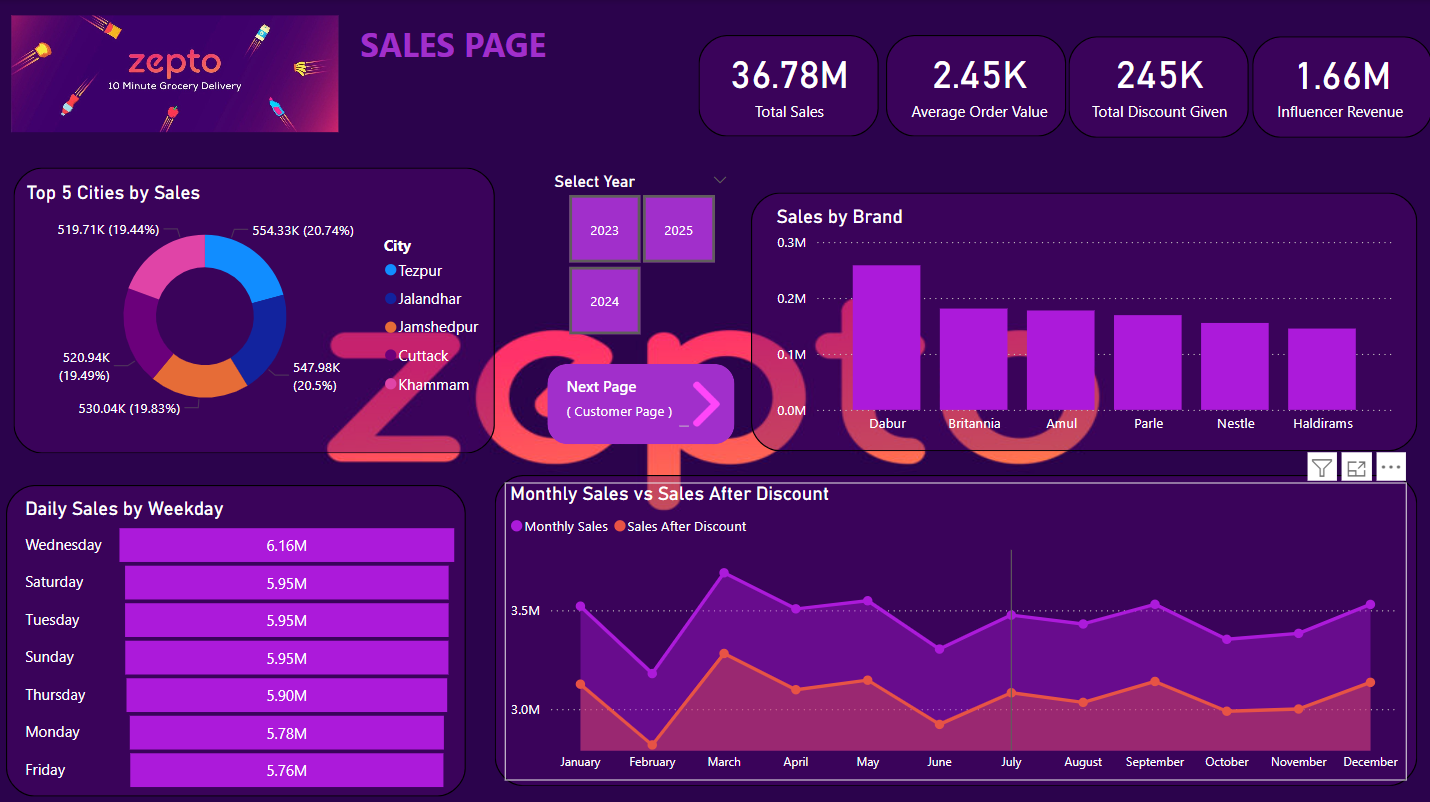

What the dashboard file says about the page in this screenshot:
{"tool":"powerbi","page":{"name":"Sales Page","canvas":[1280,720],"ordinal":1},"visuals":[{"type":"shape","box":[490.5,323.7,166.8,71.7],"z":0},{"type":"shape","box":[955.5,32.6,160.5,90.5],"z":1000},{"type":"shape","box":[1118.4,32.6,160.5,90.5],"z":2000},{"type":"shape","box":[792.6,31.4,160.5,90.5],"z":3000},{"type":"shape","box":[626.1,31.4,160.5,90.5],"z":4000},{"type":"shape","box":[672.4,171.4,593.3,230.4],"z":5000},{"type":"shape","box":[444.2,423,821.5,277.2],"z":6000},{"type":"shape","box":[8.6,431.7,409.5,277.5],"z":7000},{"type":"image","box":[9.3,9.3,301.2,114.1],"z":8000},{"type":"card","fields":{"Values":["New_Measures.Average_Order_Value"]},"box":[797.5,22.9,158,98.9],"z":9000},{"type":"card","fields":{"Values":["New_Measures.Total_Amount_After_Discount_"]},"box":[621.3,22.9,171.3,98.9],"z":10000},{"type":"card","fields":{"Values":["Sales.Total Discount"]},"box":[955.5,22.9,162.9,98.9],"z":11000},{"type":"card","fields":{"Values":["Sales.Influencer Revenue"]},"box":[1131.9,33.2,134,79.6],"z":12000},{"type":"areaChart","title":" Monthly Sales vs Sales After Discount","fields":{"Category":["Orders.Order_Date.Variation.Date Hierarchy.Month"],"Y":["New_Measures.Total_Amount","New_Measures.Total_Amount_After_Discount_"]},"box":[453.1,429.7,803.7,266],"z":13000},{"type":"funnel","title":"Daily Sales by Weekday","fields":{"Category":["Orders.Days"],"Y":["New_Measures.Total_Amount"]},"box":[21,442.8,397.1,266.4],"z":14000},{"type":"columnChart","title":"Sales by Brand","fields":{"Category":["Products.Brand"],"Y":["New_Measures.Total_Amount_After_Discount_"]},"box":[690.2,182.6,558.8,212.6],"z":15000},{"type":"shape","box":[15.9,148.6,428.6,254.8],"z":16000},{"type":"donutChart","title":" Top 5 Cities by Sales","fields":{"Y":["New_Measures.Total_Amount_After_Discount_"],"Category":["Customers.City"]},"box":[22.6,161.9,422,221.6],"z":17000},{"type":"slicer","fields":{"Values":["Customers.created_date.Variation.Date Hierarchy.Year"]},"box":[483.8,148.4,179.8,156.8],"z":18000},{"type":"textbox","title":"SALES PAGE","box":[319.8,18.6,199,47.8],"z":19000},{"type":"image","box":[607.9,334.8,49.4,49.4],"z":20000},{"type":"textbox","title":"Next Page ","box":[502.9,334.8,118.6,49.4],"z":21000}]}

Visuals, with their boxes in screenshot pixels (x1, y1, x2, y2), scaled from the page's 1280x720 canvas onto the 1430x802 screenshot:
shape: l=548, t=361, r=734, b=440
shape: l=1067, t=36, r=1247, b=137
shape: l=1249, t=36, r=1429, b=137
shape: l=885, t=35, r=1065, b=136
shape: l=699, t=35, r=879, b=136
shape: l=751, t=191, r=1414, b=448
shape: l=496, t=471, r=1414, b=780
shape: l=10, t=481, r=467, b=790
image: l=10, t=10, r=347, b=137
card - New_Measures.Average_Order_Value: l=891, t=26, r=1067, b=136
card - New_Measures.Total_Amount_After_Discount_: l=694, t=26, r=885, b=136
card - Sales.Total Discount: l=1067, t=26, r=1249, b=136
card - Sales.Influencer Revenue: l=1265, t=37, r=1414, b=126
" Monthly Sales vs Sales After Discount" areaChart: l=506, t=479, r=1404, b=775
"Daily Sales by Weekday" funnel: l=23, t=493, r=467, b=790
"Sales by Brand" columnChart: l=771, t=203, r=1395, b=440
shape: l=18, t=166, r=497, b=449
" Top 5 Cities by Sales" donutChart: l=25, t=180, r=497, b=427
slicer - Customers.created_date.Variation.Date Hierarchy.Year: l=540, t=165, r=741, b=340
"SALES PAGE" textbox: l=357, t=21, r=580, b=74
image: l=679, t=373, r=734, b=428
"Next Page " textbox: l=562, t=373, r=694, b=428
